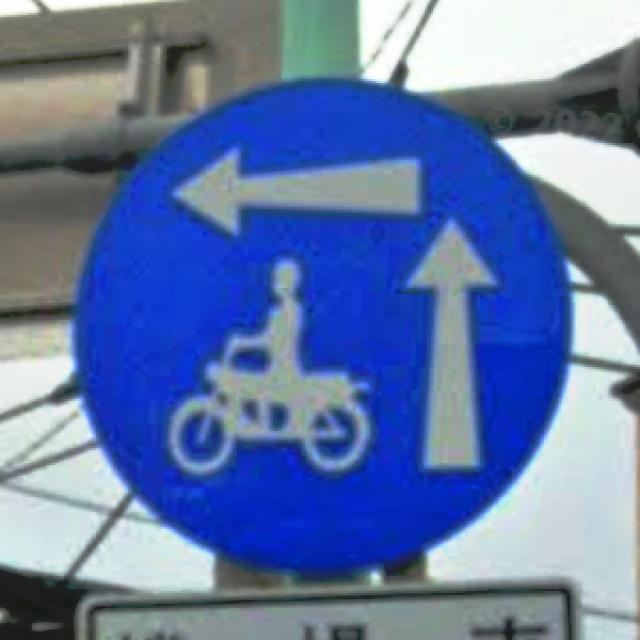twostageturn: (77, 79, 570, 576)
